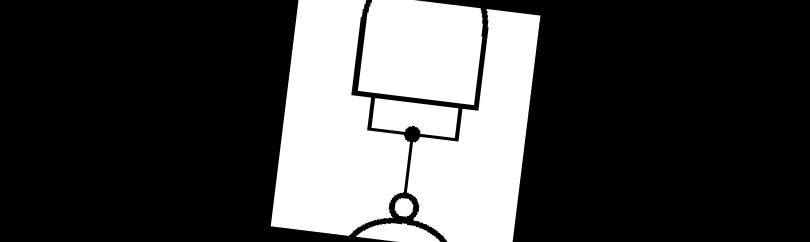nand: (339, 0, 502, 125), (326, 170, 486, 242)
